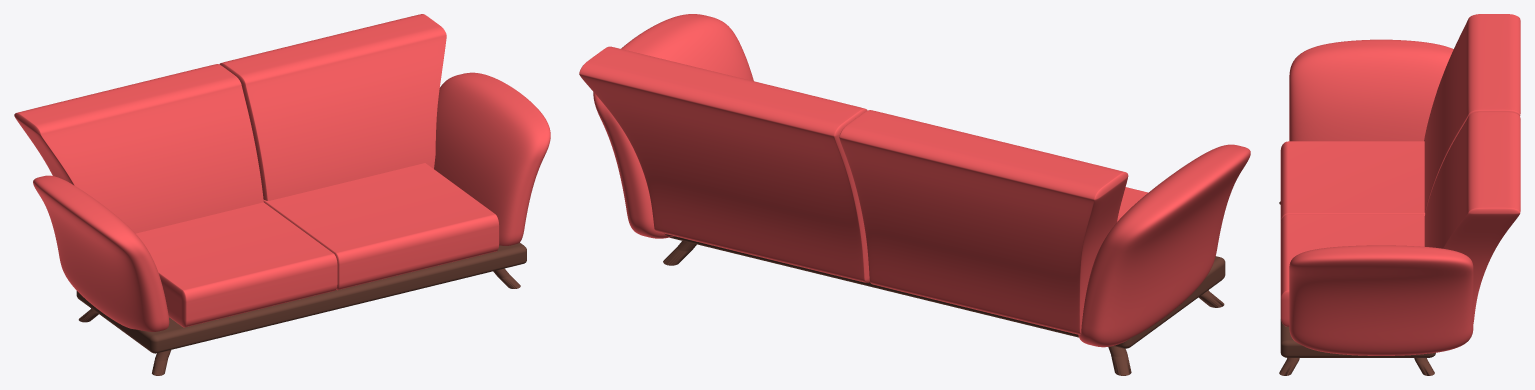
The model's file is Sofa.fbx.
3 views of the same model, side by side, from view 1: azimuth 30°, elevation 25°; view 2: azimuth 150°, elevation 25°; view 3: azimuth 270°, elevation 25° (orthographic). The views are drawn at different scales.
Parts seen in each view (by area): view 1: polySurface8.001; view 2: polySurface8.001; view 3: polySurface8.001.
Boxes of the visible parts, x1,y1,x2,y2 form: polySurface8.001: (14,14,550,375); polySurface8.001: (579,14,1250,375); polySurface8.001: (1279,14,1520,375).
Bounding box in the file's own units: 193 × 73.51 × 90.3.
